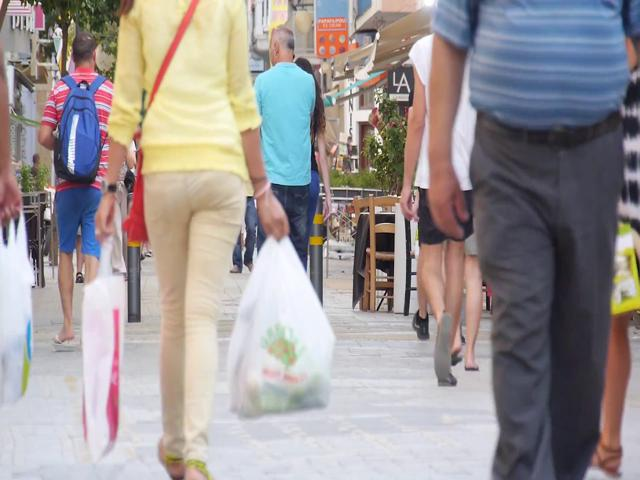shoe: (434, 315, 450, 380), (413, 308, 430, 342)
